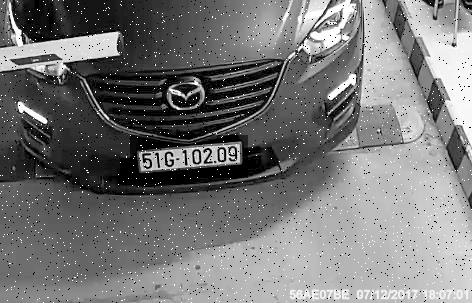License-plate: (131, 136, 249, 179)
